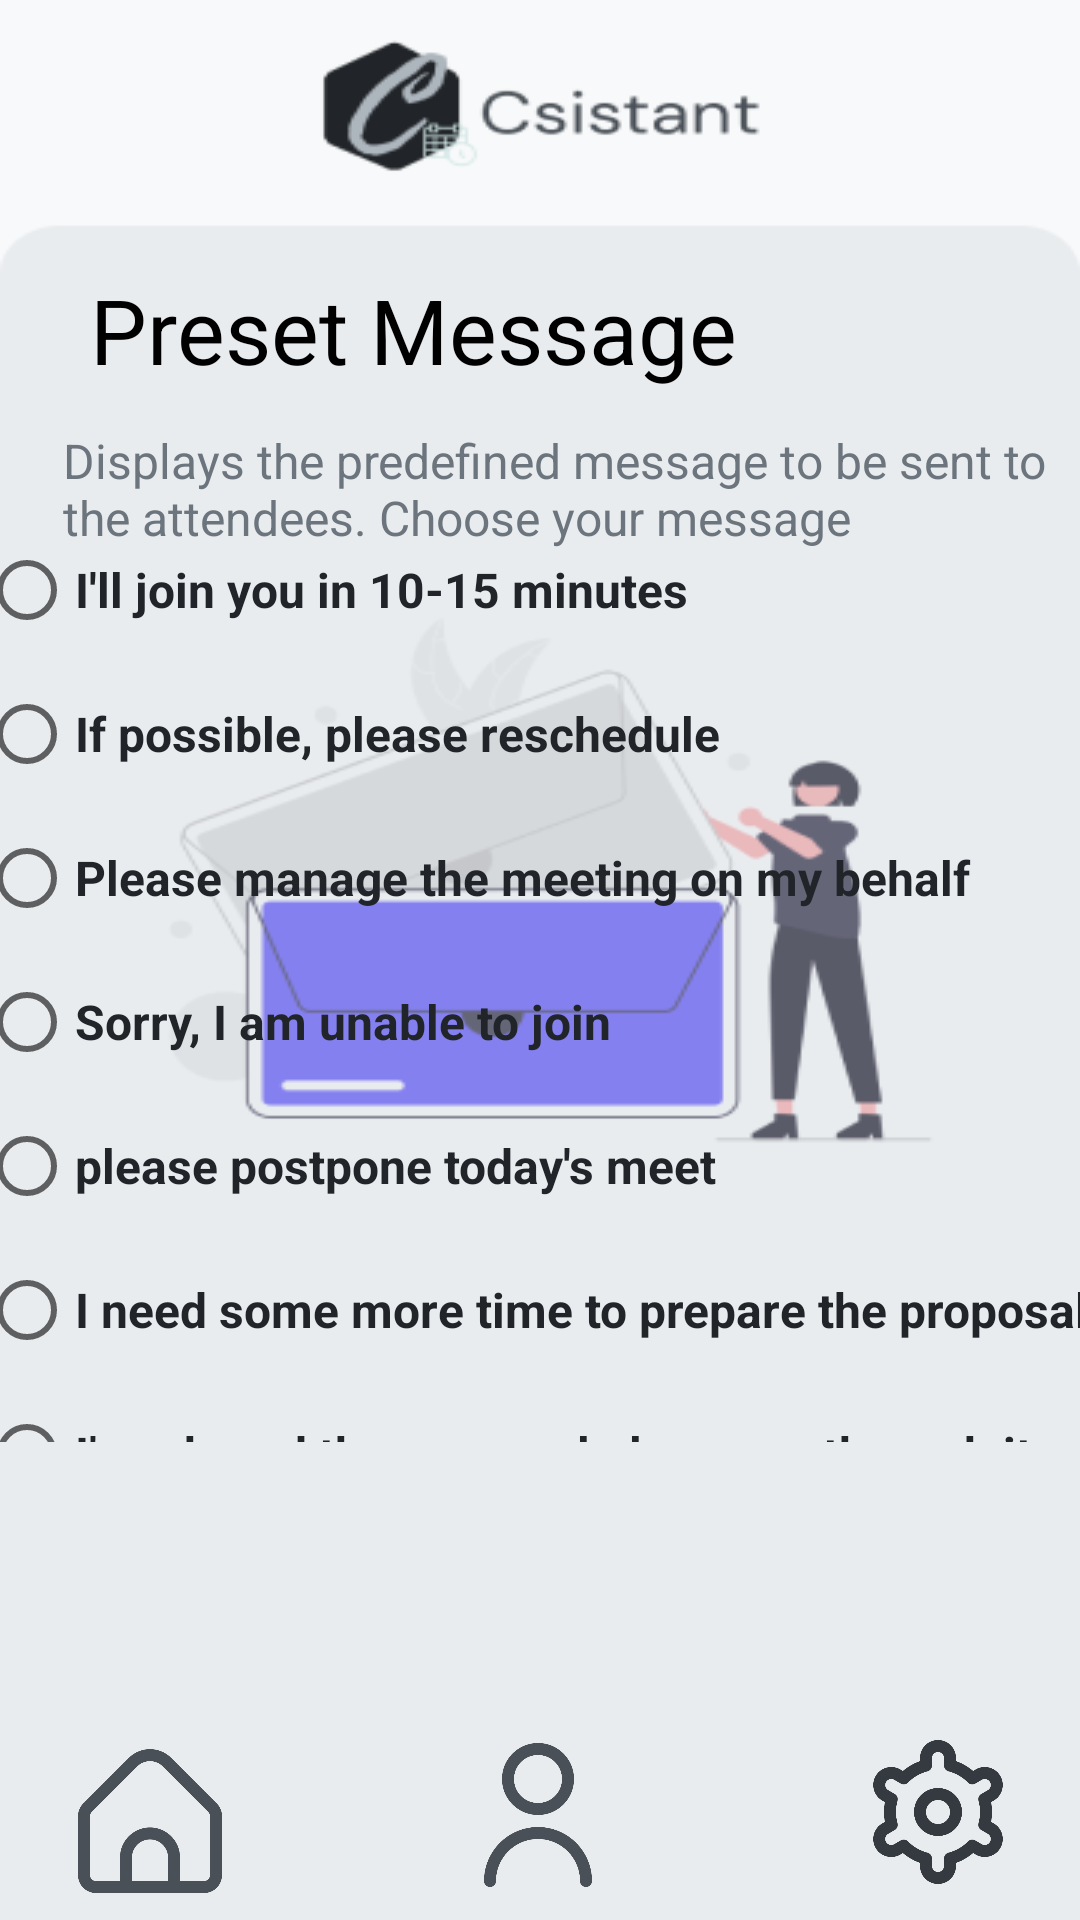

Where to tap for icons on this 1080px x 1920px app screen, as point (x, y):
home: point (150, 1821)
settings: point (938, 1812)
user: point (538, 1815)
